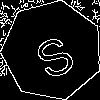S: (27, 25, 79, 82)
